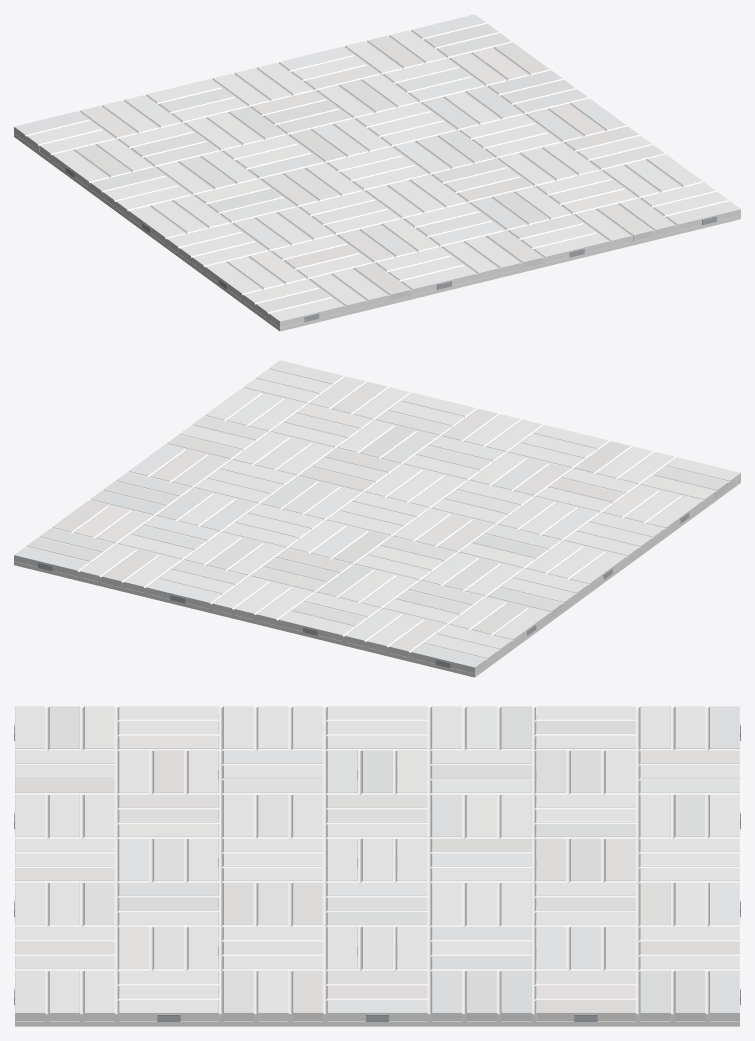
Rendered from board_6.glb.
The picture shows the model from 3 angles, top to bottom: view 1: azimuth 30°, elevation 25°; view 2: azimuth 150°, elevation 25°; view 3: azimuth 270°, elevation 25°; orthographic projection. The views are drawn at different scales.
Parts seen in each view (by area): view 1: T01_T01, MORTAR, backing, CLIP_RC-50; view 2: T01_T01, MORTAR, backing, CLIP_RC-50; view 3: T01_T01, MORTAR, backing, CLIP_RC-50.
Part boxes in pixels (x1,y1,x2,y2): T01_T01: [14, 14, 740, 327]; MORTAR: [25, 22, 728, 319]; backing: [14, 133, 740, 331]; CLIP_RC-50: [65, 166, 716, 321]; T01_T01: [14, 360, 740, 673]; MORTAR: [26, 368, 729, 665]; backing: [14, 479, 740, 677]; CLIP_RC-50: [38, 512, 689, 667]; T01_T01: [15, 706, 739, 1020]; MORTAR: [15, 707, 739, 1021]; backing: [15, 715, 739, 1026]; CLIP_RC-50: [14, 724, 740, 1021].
Bounding box in the file's own units: 1.57 × 0.033 × 1.57.
Materials: 5 (1 with a texture image).
